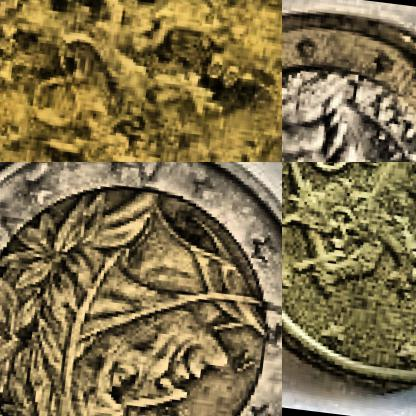coin: (0, 162, 281, 415), (0, 0, 281, 161), (282, 162, 415, 412), (282, 0, 415, 161)
